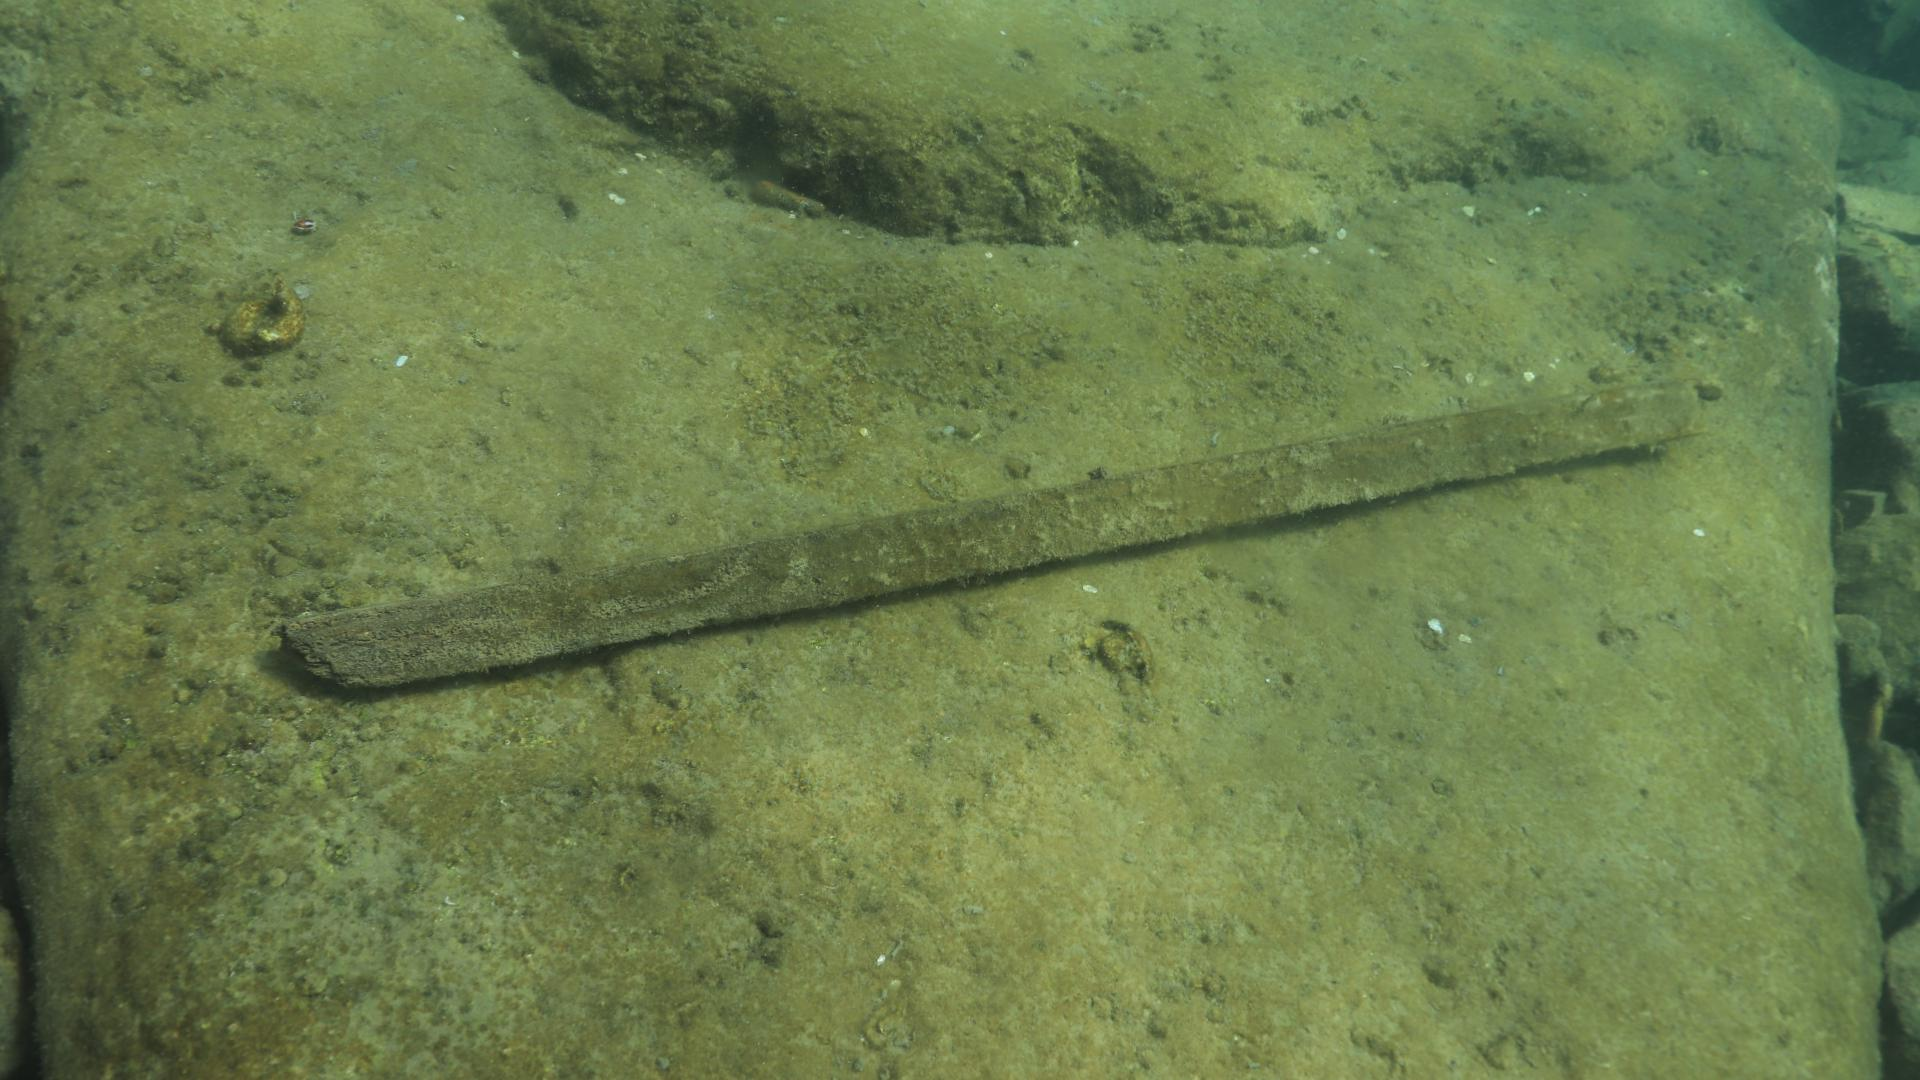wood: (276, 380, 1714, 698)
